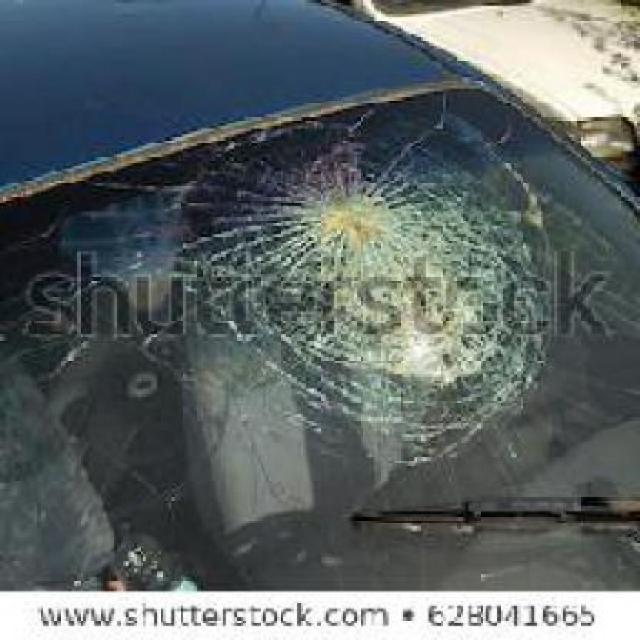damaged-windscreen: (40, 77, 637, 594)
